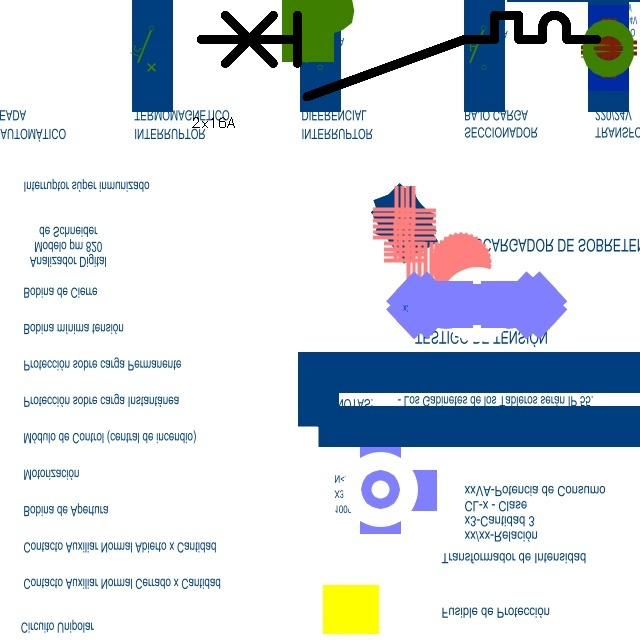interruptor_termomagnetico: (191, 5, 607, 106)
